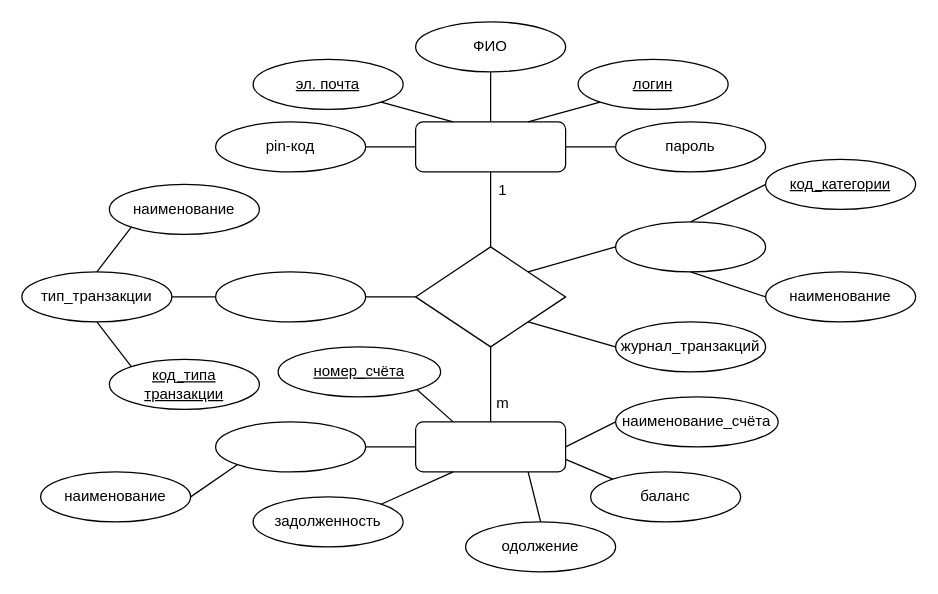
The diagram is 938 pixels wide and 594 high, and some of its shapes have lost their labels. The shapes that lost their labels are listed below. From the top down, each one's centre as x and y in pixels, then its label:
At (490,146): "КЛИЕНТ".
At (690,246): "категории".
At (290,296): "транзакция".
At (490,296): "УЧЁТ".
At (290,446): "тип_счёта".
At (490,446): "ФИНАНСЫ".
